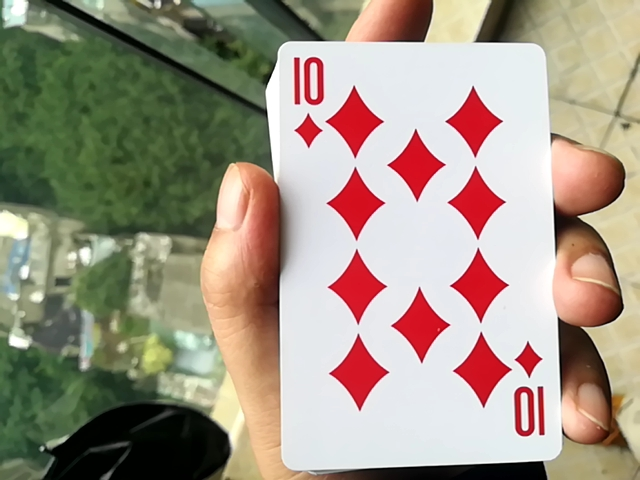fk 10: (257, 43, 567, 463)
